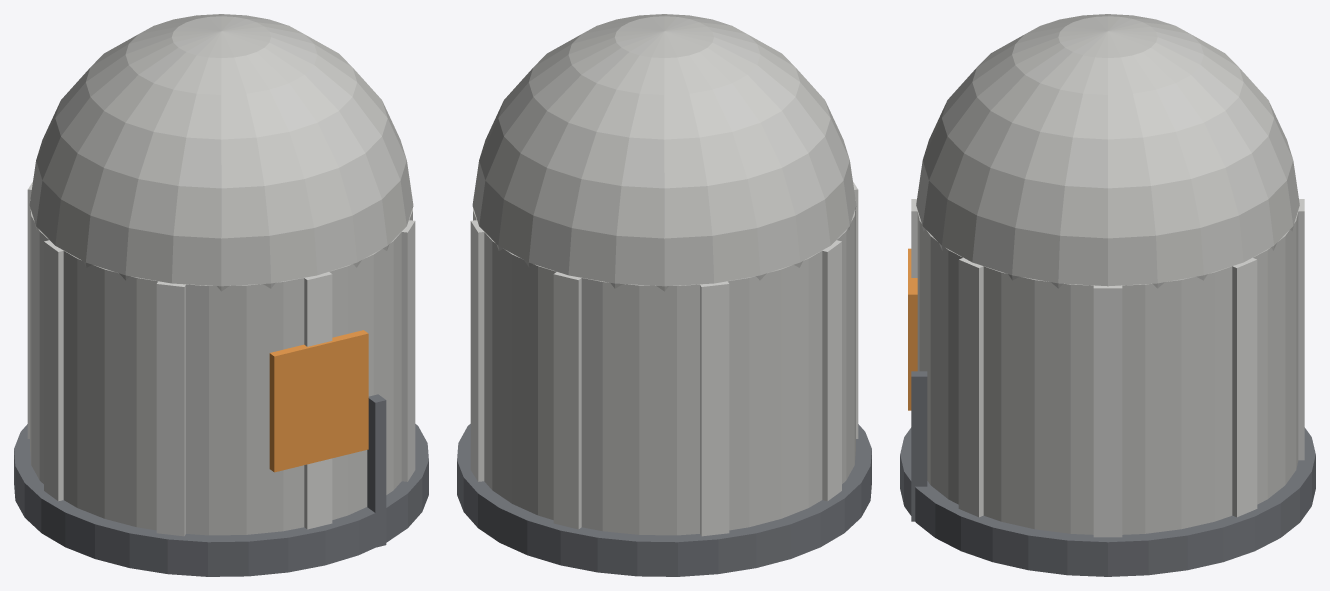
The model's file is storage_tank_script.glb.
3 renders of one model, left to right at view 1: azimuth 30°, elevation 25°; view 2: azimuth 150°, elevation 25°; view 3: azimuth 270°, elevation 25°, orthographic.
Parts seen in each view (by area): view 1: Sphere, Cylinder.001, Cylinder, Cube.008, Cube.005, Cube.004, Cube.006, Cube.007, Cube.009, Cube.003; view 2: Sphere, Cylinder.001, Cylinder, Cube.003, Cube.002, Cube.004, Cube.001, Cube.005; view 3: Sphere, Cylinder.001, Cylinder, Cube, Cube.007, Cube.001, Cube.009, Cube.002, Cube.008, Cube.006.
Part boxes in pixels (bbox=[...]): Sphere: bbox=[29, 14, 413, 291]; Cylinder.001: bbox=[30, 199, 412, 535]; Cylinder: bbox=[14, 424, 428, 576]; Cube.008: bbox=[269, 330, 368, 472]; Cube.005: bbox=[156, 281, 185, 536]; Cube.004: bbox=[44, 240, 63, 501]; Cube.006: bbox=[304, 272, 332, 529]; Cube.007: bbox=[401, 220, 415, 481]; Cube.009: bbox=[367, 394, 386, 547]; Cube.003: bbox=[27, 182, 32, 438]; Sphere: bbox=[472, 14, 856, 291]; Cylinder.001: bbox=[473, 199, 855, 535]; Cylinder: bbox=[457, 424, 871, 576]; Cube.003: bbox=[700, 281, 729, 536]; Cube.002: bbox=[553, 272, 581, 529]; Cube.004: bbox=[822, 240, 841, 501]; Cube.001: bbox=[470, 220, 484, 481]; Cube.005: bbox=[853, 182, 858, 438]; Sphere: bbox=[916, 14, 1299, 288]; Cylinder.001: bbox=[917, 211, 1298, 534]; Cylinder: bbox=[900, 427, 1315, 576]; Cube: bbox=[1093, 285, 1122, 537]; Cube.007: bbox=[958, 257, 983, 517]; Cube.001: bbox=[1232, 258, 1257, 517]; Cube.009: bbox=[911, 371, 927, 521]; Cube.002: bbox=[1298, 199, 1304, 460]; Cube.008: bbox=[908, 248, 917, 410]; Cube.006: bbox=[911, 199, 917, 277].
Bounding box in the file's own units: 13 × 15.8 × 13.
